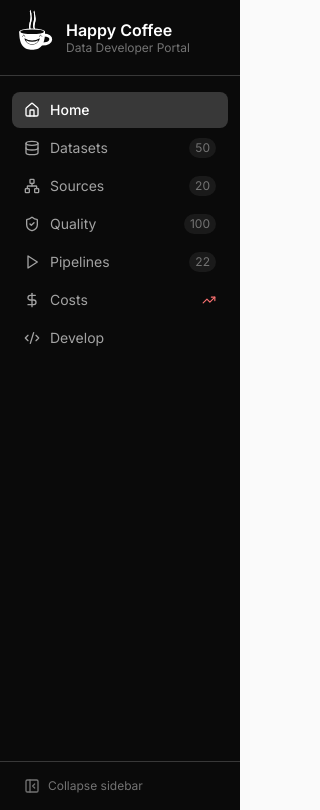
Sidebar › can collapse and expand the navigation
Click the button with aria-label "Collapse navigation": (120, 786) [12,770,228,802]
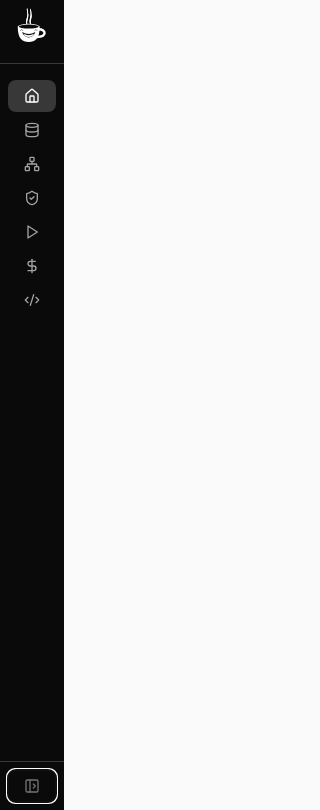
Result: the button named "Expand navigation" is shown
Click the button named "Expand navigation": (32, 786) [8,770,56,802]
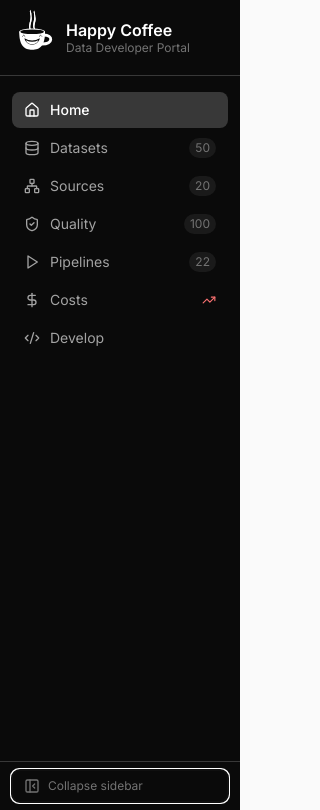
Result: the button with aria-label "Collapse navigation" is shown at [12,770,228,802]
